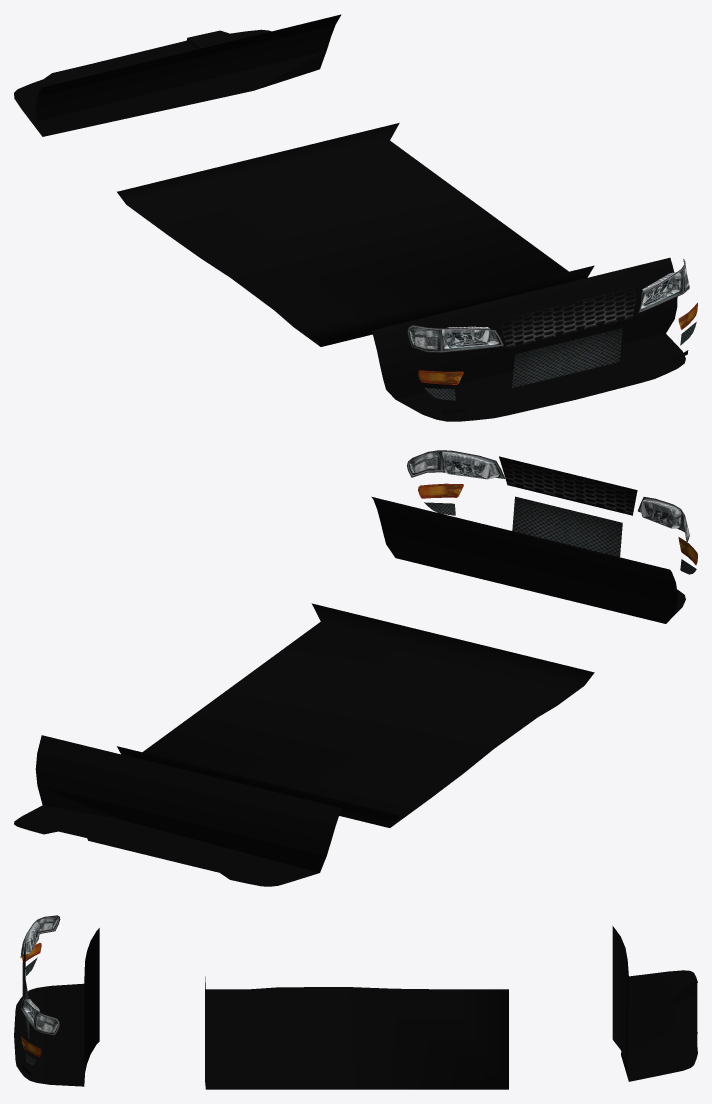
File: extra1.obj
3 renders of one model, top to bottom at view 1: azimuth 30°, elevation 25°; view 2: azimuth 150°, elevation 25°; view 3: azimuth 270°, elevation 25°, orthographic. The views are drawn at different scales.
Visible parts, largest first — view 1: Extra11; view 2: Extra11; view 3: Extra11.
Part boxes in pixels (x1,y1,x2,y2): Extra11: (14,14,697,421); Extra11: (14,450,697,886); Extra11: (14,915,697,1089).
Bounding box in the file's own units: 6.67 × 2.04 × 16.89.
Materials: 1 (1 with a texture image).
